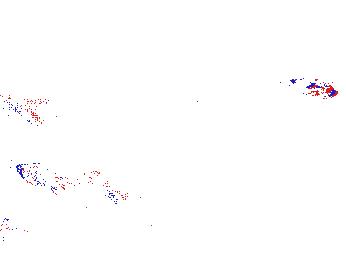red belly glassfish: (283, 74, 338, 101)
redtail glassfish: (13, 161, 138, 214), (1, 91, 41, 127)
